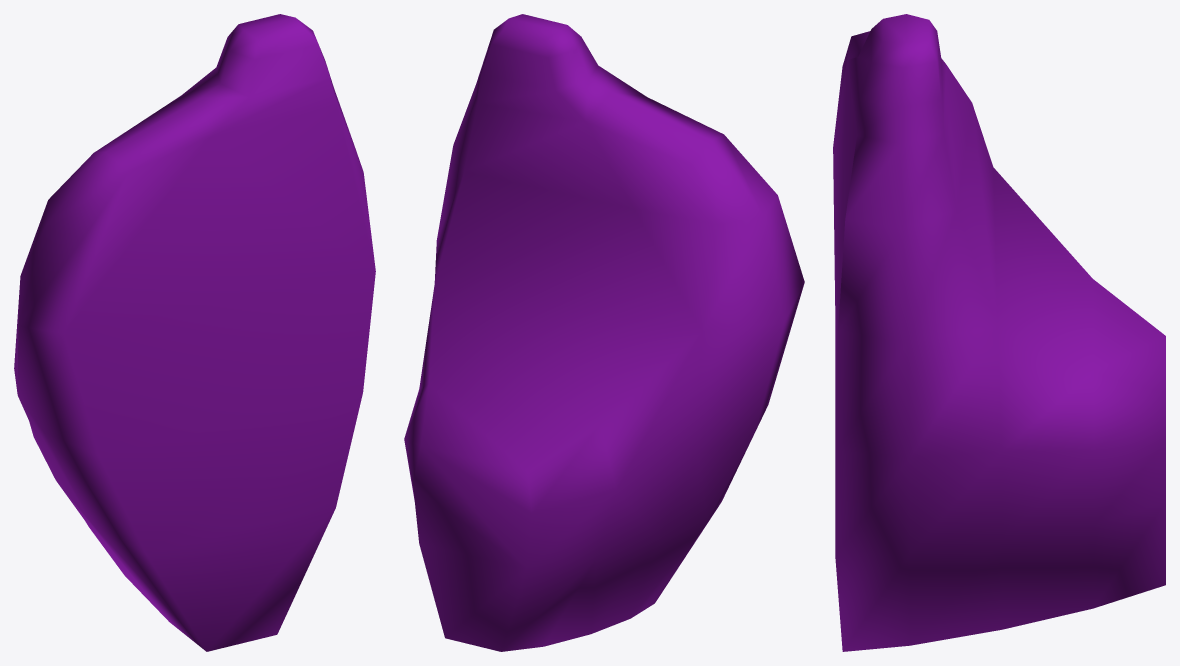
The model's file is jynx.glb.
3 renders of one model, left to right at view 1: azimuth 30°, elevation 25°; view 2: azimuth 150°, elevation 25°; view 3: azimuth 270°, elevation 25°, orthographic. The views are drawn at different scales.
Visible parts, largest first — view 1: Asset3DLoader.sceneRoot; view 2: Asset3DLoader.sceneRoot; view 3: Asset3DLoader.sceneRoot.
Boxes of the visible parts, x1,y1,x2,y2 form: Asset3DLoader.sceneRoot: (14,14,375,651); Asset3DLoader.sceneRoot: (404,14,804,651); Asset3DLoader.sceneRoot: (833,14,1165,651).
Bounding box in the file's own units: 3.21 × 5.11 × 2.43.
1 material, 1 textured.
